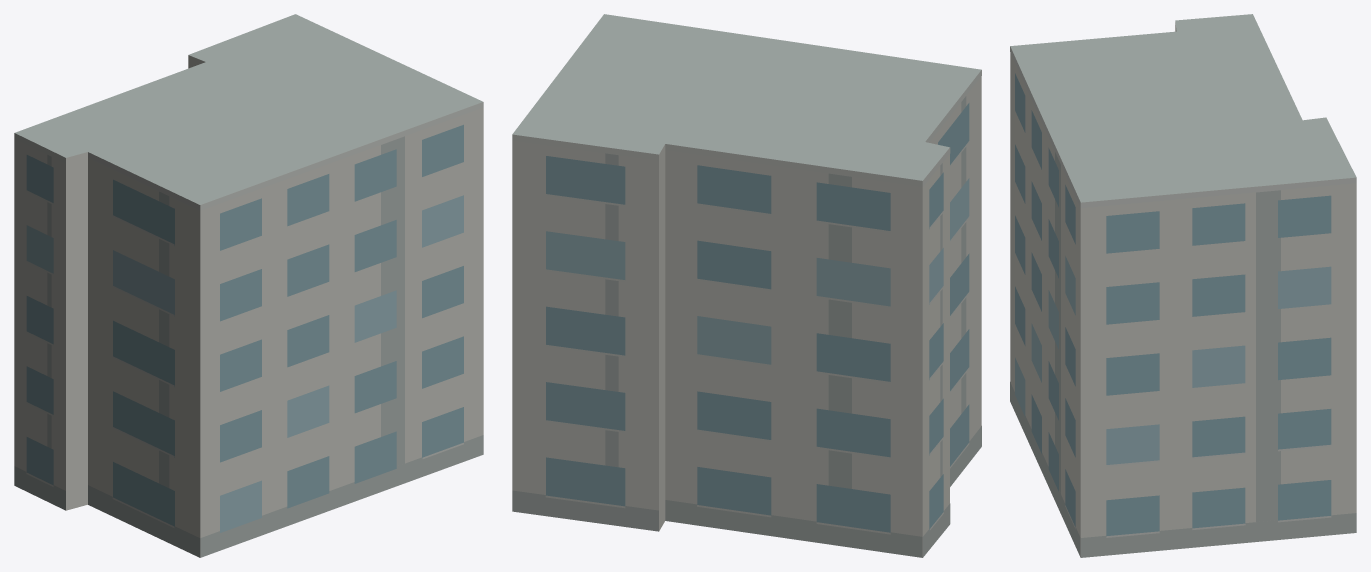
Rendered from survey-upis-32629341.glb.
3 renders of one model, left to right at view 1: azimuth 30°, elevation 25°; view 2: azimuth 150°, elevation 25°; view 3: azimuth 270°, elevation 25°, orthographic. The views are drawn at different scales.
Visible parts, largest first — view 1: survey-upis-32629341.tmp; view 2: survey-upis-32629341.tmp; view 3: survey-upis-32629341.tmp.
Part boxes in pixels (x1,y1,x2,y2): survey-upis-32629341.tmp: (14,14,483,557); survey-upis-32629341.tmp: (512,14,981,557); survey-upis-32629341.tmp: (1010,14,1356,557).
Size of the model in its own units: 16.88 by 14.82 by 13.11.
